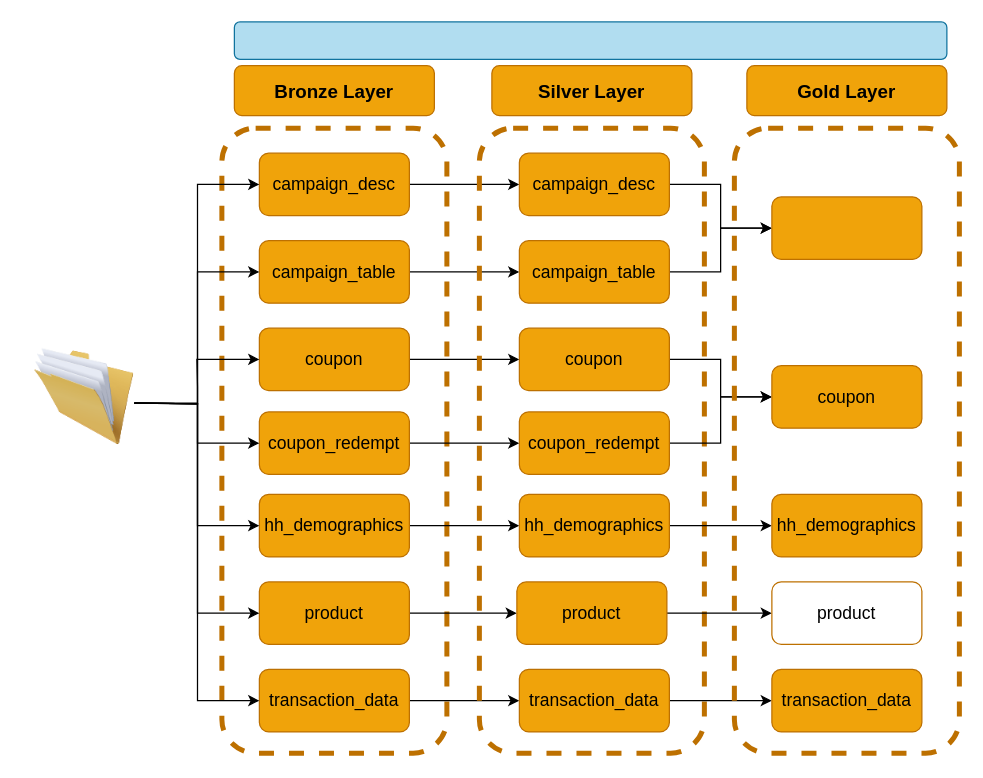
The diagram is 983 pixels wide and 778 high, and some of its shapes have lost their labels. The centre of each missing label's shape, as x and y in pixels:
campaign: point (846, 227)
Data Flow: point (590, 40)
DATA SOURCE: point (84, 396)
